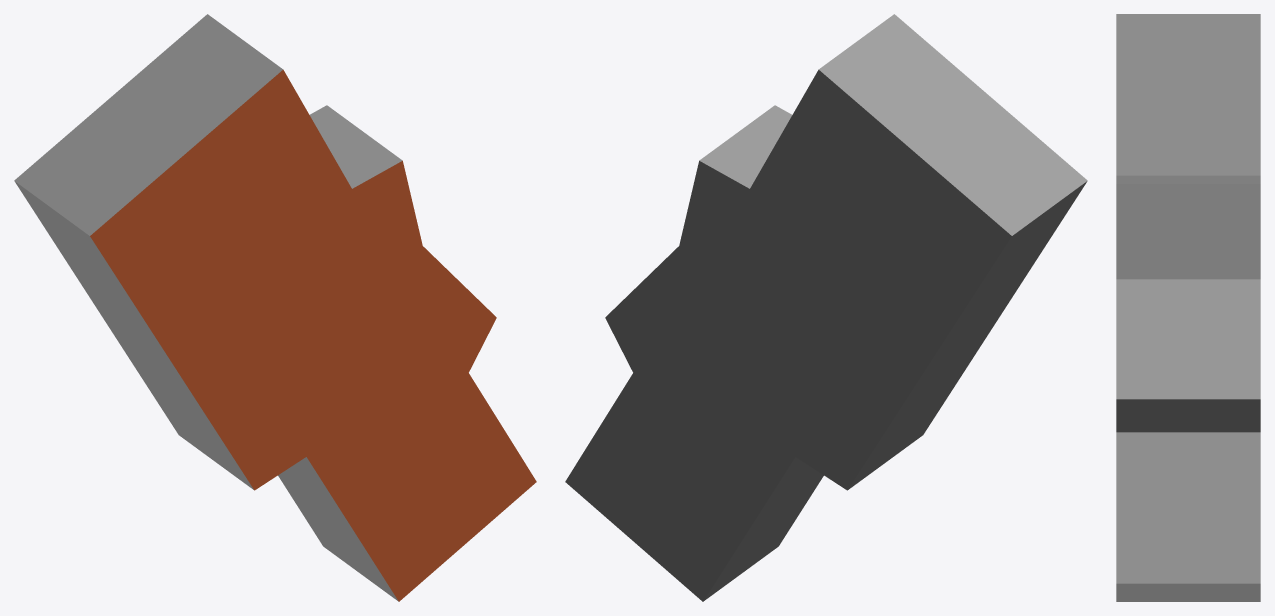
Rendered from construction_3518_assumed_A_Casa_h6m.obj.
3 views of the same model, side by side, from view 1: azimuth 30°, elevation 25°; view 2: azimuth 150°, elevation 25°; view 3: azimuth 270°, elevation 25° (orthographic). The views are drawn at different scales.
Parts seen in each view (by area): view 1: construction_3518_assumed_A_Casa; view 2: construction_3518_assumed_A_Casa; view 3: construction_3518_assumed_A_Casa.
Boxes of the visible parts, x1,y1,x2,y2 form: construction_3518_assumed_A_Casa: [14, 14, 536, 601]; construction_3518_assumed_A_Casa: [565, 14, 1087, 601]; construction_3518_assumed_A_Casa: [1116, 14, 1260, 601].
Bounding box in the file's own units: 20.42 × 24.48 × 6.
